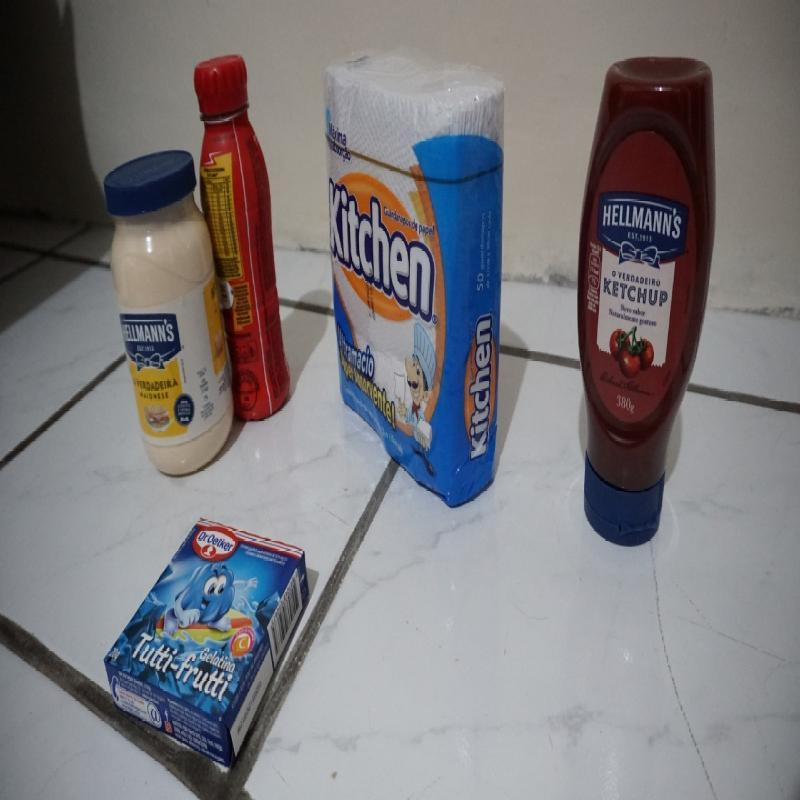Chocolate Milk: (191, 55, 293, 426)
Gelatine: (101, 515, 311, 772)
Ketchup: (576, 54, 721, 550)
Mayonnaise: (102, 149, 235, 478)
Napkin: (324, 41, 510, 511)
